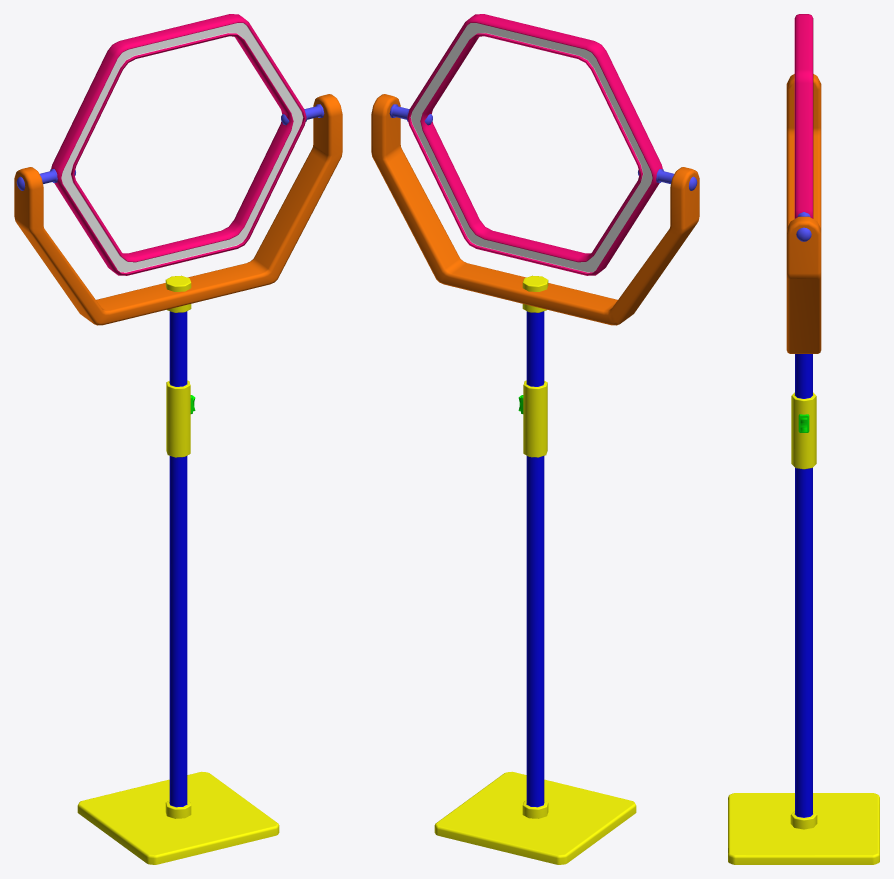
The model's file is S_HexaLight.fbx.
3 views of the same model, side by side, from view 1: azimuth 30°, elevation 25°; view 2: azimuth 150°, elevation 25°; view 3: azimuth 270°, elevation 25° (orthographic).
Visible parts, largest first — view 1: Lamp_Base, Lamp_Light, Lamp_Arma; view 2: Lamp_Base, Lamp_Light, Lamp_Arma; view 3: Lamp_Base, Lamp_Arma, Lamp_Light.
Part boxes in pixels (box(x1,y1,x2,y2)): Lamp_Base: box(77, 275, 279, 864); Lamp_Light: box(51, 14, 306, 275); Lamp_Arma: box(14, 94, 342, 325); Lamp_Base: box(434, 275, 636, 864); Lamp_Light: box(407, 14, 662, 275); Lamp_Arma: box(371, 94, 699, 325); Lamp_Base: box(728, 354, 879, 864); Lamp_Arma: box(786, 74, 821, 353); Lamp_Light: box(794, 14, 813, 218).
Bounding box in the file's own units: 38.41 × 90.44 × 15.75.
